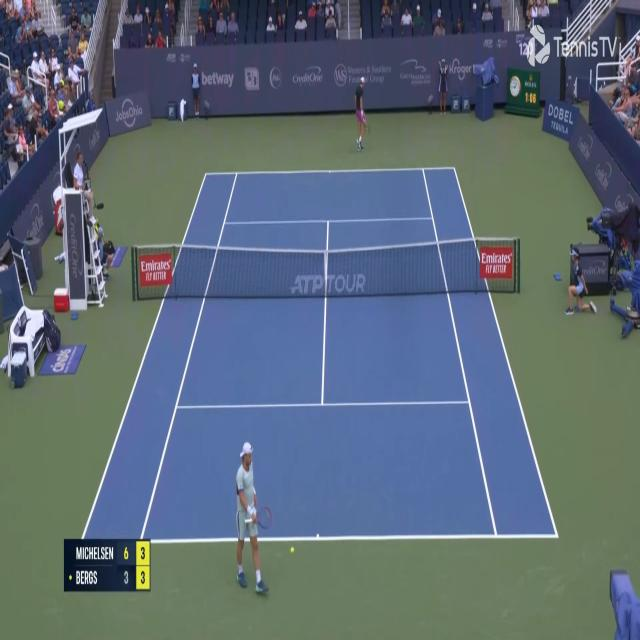tennis-player: (233, 439, 269, 596), (352, 76, 368, 152)
